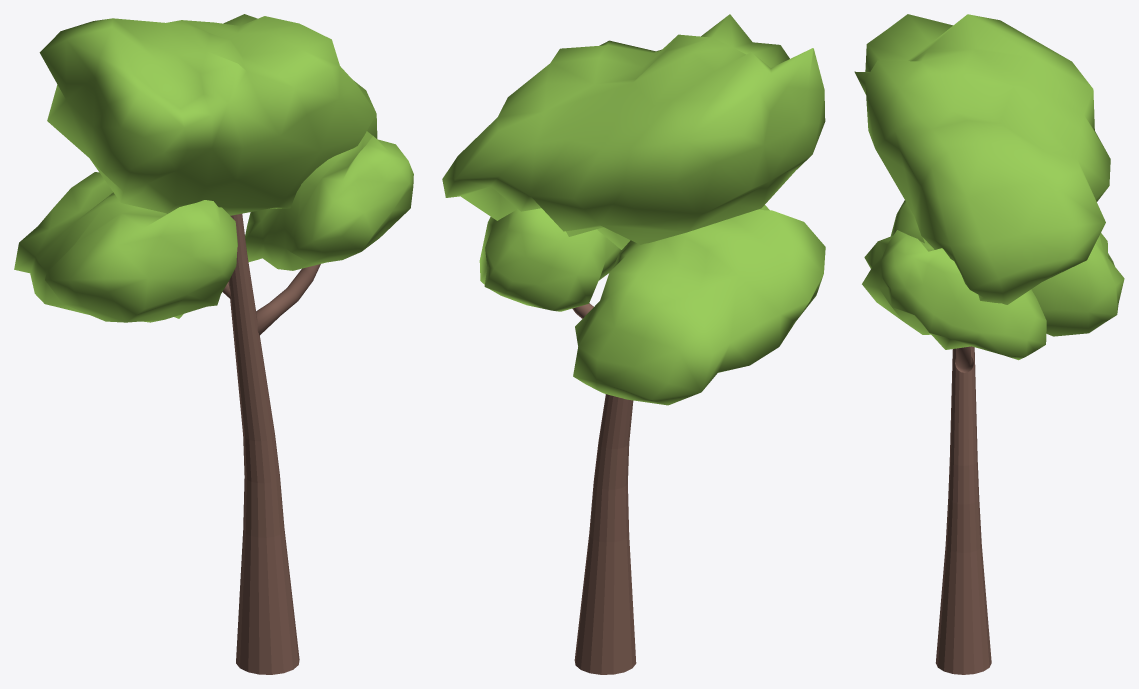
The model's file is Tree.fbx.
3 renders of one model, left to right at view 1: azimuth 30°, elevation 25°; view 2: azimuth 150°, elevation 25°; view 3: azimuth 270°, elevation 25°, orthographic. The views are drawn at different scales.
Parts seen in each view (by area): view 1: Tree; view 2: Tree; view 3: Tree.
Part boxes in pixels (x1,y1,x2,y2): Tree: (14,14,413,674); Tree: (442,14,825,674); Tree: (854,14,1124,674).
Size of the model in its own units: 1.68 by 3.22 by 1.35.
